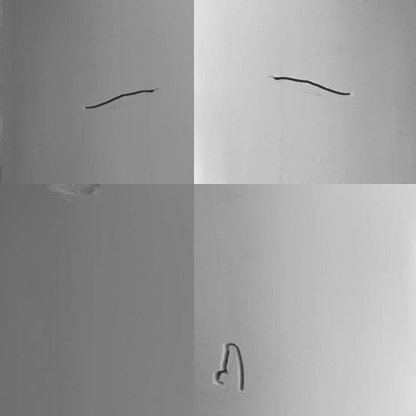fengxi: (268, 73, 357, 101), (82, 86, 160, 112), (211, 336, 245, 389)
sunshang: (45, 179, 106, 197)
